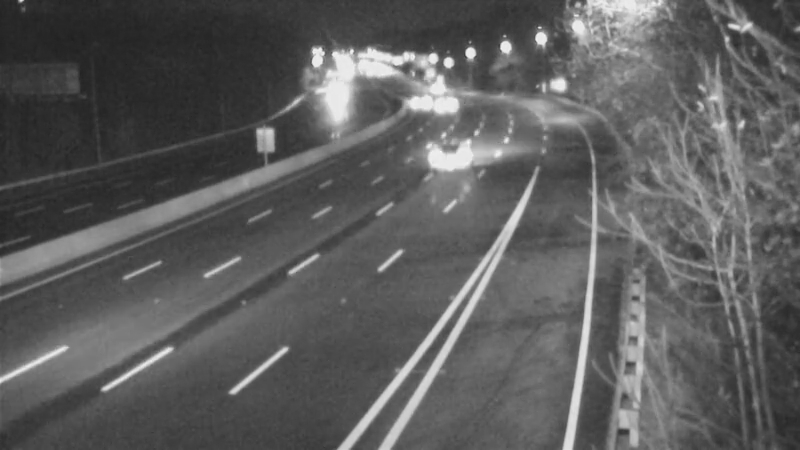vehicle: (410, 120, 490, 200), (419, 76, 469, 126), (387, 81, 437, 131), (308, 64, 358, 114)
